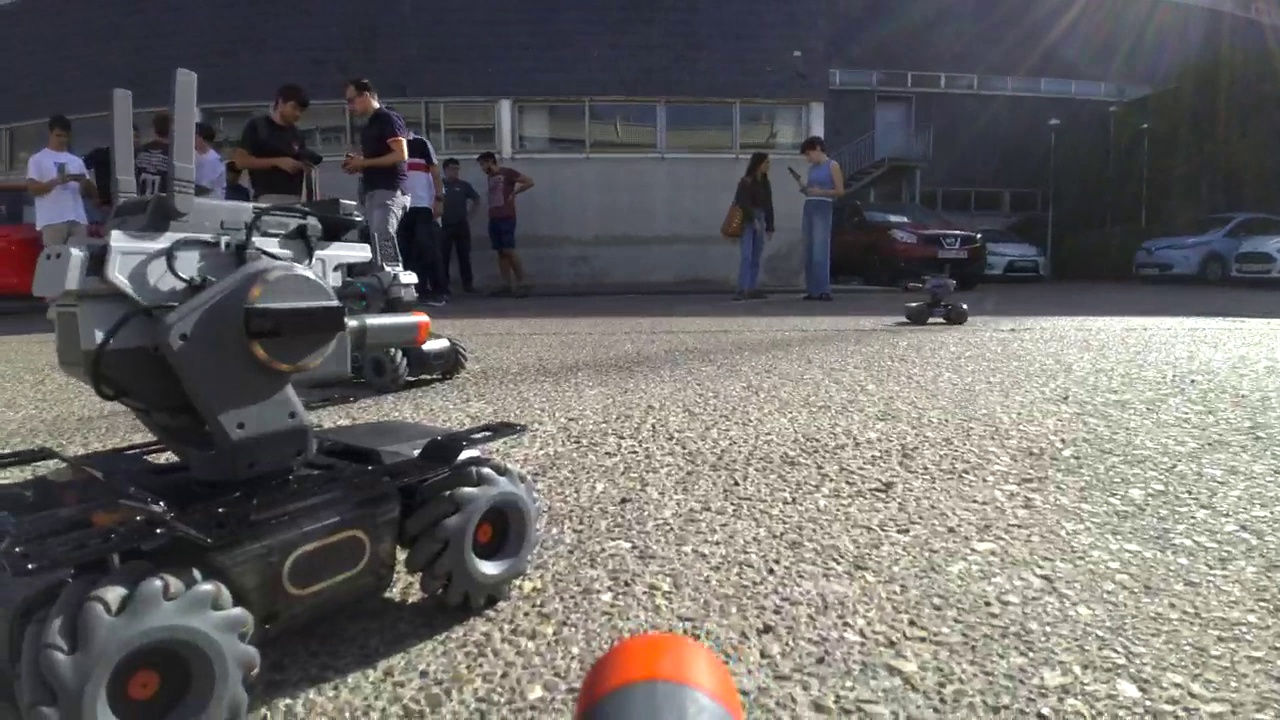robot: (1, 64, 543, 720), (904, 264, 968, 329)
